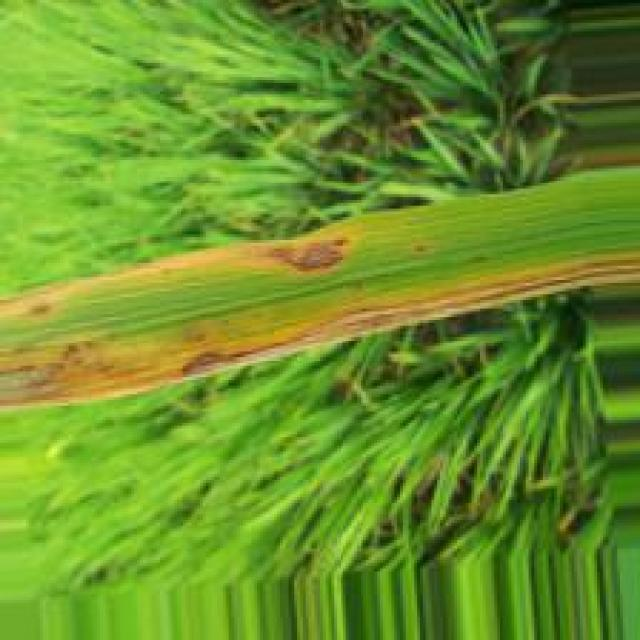Leaf_Blast: (180, 256, 640, 381), (263, 232, 357, 274), (4, 357, 72, 399)
